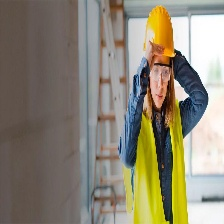helmet: (143, 5, 177, 64)
no-vest: (132, 103, 188, 220)
person: (124, 4, 196, 223)
